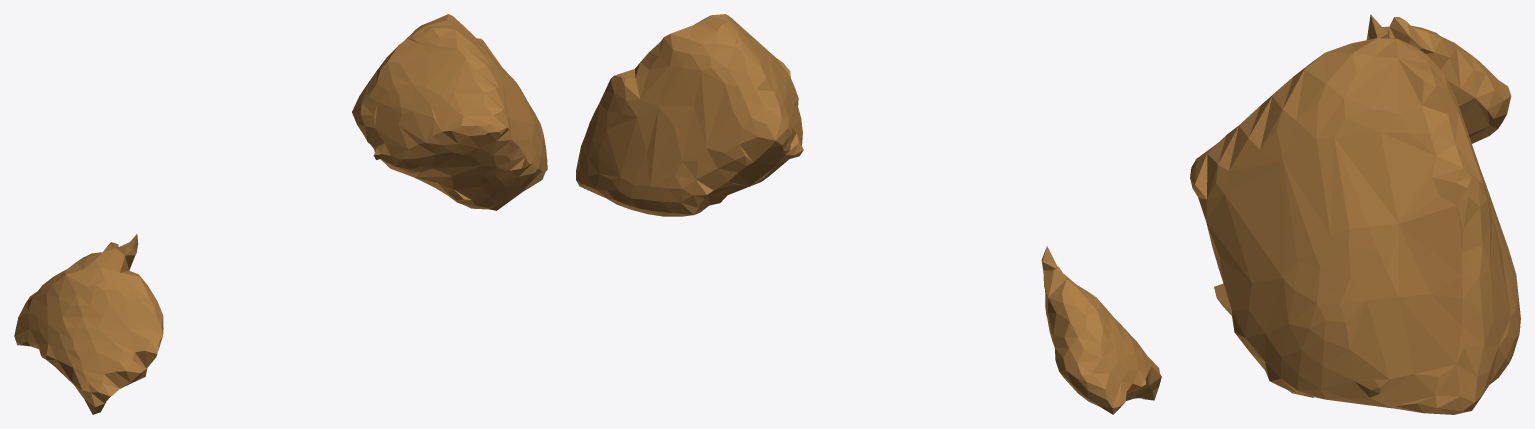
The model's file is Model_10007_LH__Anterior_olfactory_nucleus_(AON).obj.
3 views of the same model, side by side, from view 1: azimuth 30°, elevation 25°; view 2: azimuth 150°, elevation 25°; view 3: azimuth 270°, elevation 25° (orthographic). The views are drawn at different scales.
Bounding box in the file's own units: 3.24 × 1.69 × 1.01.
